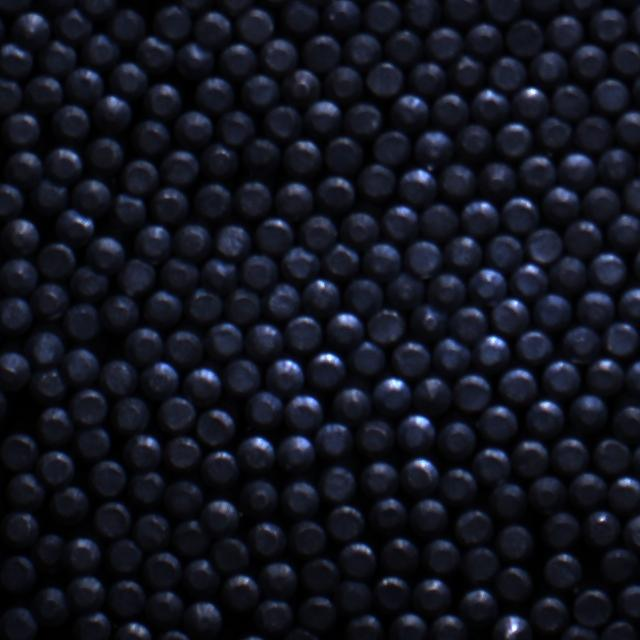tool: (70, 176, 112, 216), (49, 486, 90, 526), (572, 586, 612, 626), (232, 180, 272, 220), (204, 320, 244, 360), (452, 372, 492, 412), (279, 68, 319, 108), (265, 354, 305, 394), (372, 374, 412, 414), (412, 374, 452, 414), (567, 393, 607, 433), (305, 350, 345, 390), (98, 293, 138, 333), (550, 436, 590, 476), (182, 366, 222, 406), (556, 150, 596, 190), (273, 180, 313, 220), (540, 360, 580, 400), (396, 412, 436, 452), (413, 127, 453, 167), (241, 136, 281, 176), (477, 404, 519, 442), (496, 366, 538, 404), (402, 456, 441, 496), (529, 596, 568, 636), (140, 359, 180, 398), (316, 174, 356, 213), (282, 138, 322, 177), (523, 398, 563, 437), (221, 572, 260, 612), (330, 386, 371, 424), (548, 255, 587, 294), (562, 218, 602, 256), (282, 314, 322, 352), (240, 72, 280, 110), (403, 240, 443, 278), (344, 100, 384, 138), (234, 6, 274, 44), (194, 76, 234, 114), (124, 326, 164, 364), (296, 212, 336, 250), (418, 202, 458, 240), (142, 288, 182, 326), (36, 240, 76, 278), (159, 258, 199, 296), (116, 258, 156, 296), (442, 235, 482, 273), (62, 536, 102, 574), (360, 244, 400, 282), (468, 268, 508, 306), (24, 73, 64, 111), (134, 223, 172, 263), (472, 334, 512, 372), (200, 255, 238, 295), (325, 134, 365, 172), (61, 346, 99, 386), (532, 292, 572, 330), (280, 247, 320, 285), (576, 289, 616, 327), (196, 407, 236, 445), (121, 157, 161, 195), (584, 356, 624, 394), (392, 338, 432, 376), (343, 276, 383, 314), (324, 312, 364, 350), (432, 336, 472, 374), (436, 421, 476, 459), (304, 102, 344, 140), (136, 34, 176, 72), (124, 432, 164, 470), (28, 178, 68, 216), (339, 210, 379, 248), (94, 96, 134, 134), (560, 326, 600, 364), (588, 250, 628, 288), (424, 272, 464, 310), (238, 434, 276, 474), (142, 82, 182, 120), (176, 110, 216, 148), (388, 92, 428, 130), (86, 235, 126, 273), (5, 472, 45, 510), (200, 497, 240, 535), (200, 140, 240, 178), (108, 60, 148, 98), (13, 9, 52, 47), (302, 33, 341, 71), (471, 87, 510, 125), (413, 576, 452, 614), (1, 510, 40, 548), (550, 82, 589, 120), (0, 431, 38, 470), (517, 154, 556, 192), (568, 472, 607, 510), (356, 162, 395, 200), (501, 194, 540, 232), (369, 498, 408, 536), (277, 433, 315, 472), (161, 148, 200, 186), (224, 358, 262, 397), (544, 550, 583, 588), (1, 216, 40, 254), (438, 162, 477, 200), (477, 162, 516, 200), (29, 365, 68, 403), (213, 222, 252, 260), (35, 406, 73, 445), (460, 198, 500, 235), (255, 217, 295, 254), (150, 186, 190, 223), (581, 185, 621, 222), (32, 586, 69, 626), (483, 232, 523, 269), (283, 393, 323, 430), (64, 66, 104, 103), (384, 272, 424, 309), (44, 146, 84, 183), (323, 65, 363, 102), (354, 418, 394, 455), (506, 19, 544, 57), (546, 14, 584, 52), (528, 476, 566, 514), (107, 580, 145, 618), (570, 42, 608, 80), (281, 479, 319, 517), (159, 394, 197, 432), (512, 438, 550, 476), (249, 520, 287, 558), (172, 222, 210, 260), (92, 500, 130, 538), (602, 546, 640, 584), (594, 436, 632, 474), (114, 394, 152, 432), (246, 389, 284, 427), (165, 478, 203, 516), (438, 467, 476, 505), (583, 508, 621, 546), (512, 262, 550, 300), (102, 356, 140, 394), (133, 511, 171, 549), (542, 184, 580, 222), (67, 574, 105, 612), (304, 278, 342, 316), (474, 446, 512, 484), (590, 77, 628, 115), (144, 550, 182, 588), (108, 8, 146, 46), (260, 38, 298, 76), (176, 41, 214, 79), (154, 2, 192, 40), (202, 448, 240, 486), (26, 330, 64, 368), (339, 540, 377, 578), (314, 422, 352, 460), (452, 124, 490, 162), (195, 11, 234, 48), (166, 328, 203, 367), (36, 449, 75, 486), (398, 166, 437, 203), (186, 600, 223, 639), (133, 118, 172, 155), (574, 114, 614, 150), (40, 40, 80, 76), (215, 108, 255, 144), (298, 596, 338, 632), (342, 32, 382, 68), (254, 598, 294, 634), (450, 308, 490, 344), (542, 514, 582, 550), (408, 306, 448, 342), (82, 32, 122, 68), (50, 102, 90, 138), (56, 208, 96, 244), (367, 306, 405, 343), (218, 44, 255, 82), (374, 574, 411, 612), (195, 180, 232, 218), (360, 461, 398, 498), (491, 295, 528, 333), (384, 28, 422, 65), (411, 498, 448, 536), (90, 458, 128, 495), (382, 202, 419, 240), (5, 150, 43, 187), (71, 386, 109, 423), (596, 146, 634, 183), (247, 323, 284, 361), (511, 85, 549, 122), (54, 5, 92, 42), (464, 22, 502, 59), (432, 91, 469, 129), (381, 535, 419, 572), (493, 122, 532, 158), (184, 286, 223, 322), (487, 56, 526, 92), (362, 60, 401, 96), (408, 60, 447, 96), (322, 244, 361, 280), (458, 587, 497, 623), (586, 7, 626, 42), (328, 504, 366, 540), (524, 228, 562, 264), (373, 128, 411, 164), (424, 536, 462, 572), (241, 254, 279, 290), (65, 302, 101, 340), (528, 51, 566, 87), (223, 288, 261, 324), (454, 509, 492, 545), (262, 282, 300, 318), (2, 258, 38, 296), (264, 104, 302, 140), (347, 340, 385, 376), (34, 281, 70, 319), (302, 556, 340, 592), (210, 537, 248, 573), (243, 479, 279, 517), (515, 328, 553, 364), (449, 55, 487, 91), (72, 265, 110, 301), (174, 518, 212, 554), (86, 135, 124, 171), (112, 192, 148, 230), (2, 109, 40, 145), (260, 560, 298, 596), (0, 553, 35, 592), (606, 212, 640, 252), (106, 536, 143, 572), (129, 470, 166, 506), (146, 590, 183, 626), (183, 557, 220, 593), (424, 26, 462, 61), (164, 436, 202, 471), (279, 0, 318, 34), (322, 0, 362, 33), (290, 520, 326, 556), (602, 321, 638, 357), (496, 564, 532, 600), (321, 464, 356, 501), (489, 481, 526, 516), (0, 606, 37, 640), (535, 115, 573, 148), (337, 578, 372, 613), (499, 524, 535, 558), (76, 426, 112, 460), (362, 0, 399, 33), (0, 295, 32, 333), (34, 532, 66, 570), (609, 474, 640, 513), (612, 399, 640, 442), (464, 546, 499, 580), (0, 42, 33, 78), (1, 351, 30, 391), (74, 611, 113, 640), (492, 612, 532, 640), (610, 41, 640, 78), (614, 109, 640, 149), (346, 614, 386, 640), (390, 613, 428, 640), (402, 0, 440, 27), (433, 614, 470, 640), (441, 0, 479, 24), (617, 283, 640, 322), (0, 76, 22, 115), (0, 182, 23, 219), (480, 0, 520, 21), (618, 582, 640, 620), (601, 620, 639, 640), (113, 621, 152, 640), (78, 0, 118, 18), (624, 353, 640, 398), (622, 177, 640, 215), (624, 511, 640, 552), (560, 0, 602, 15), (522, 0, 560, 16), (557, 625, 597, 640), (214, 0, 256, 14), (278, 627, 322, 640), (0, 0, 36, 13), (155, 628, 194, 640), (36, 0, 78, 11), (176, 0, 214, 11), (630, 0, 640, 40), (631, 69, 640, 107), (632, 243, 640, 285), (604, 0, 640, 7), (232, 634, 272, 640), (0, 7, 6, 47)
